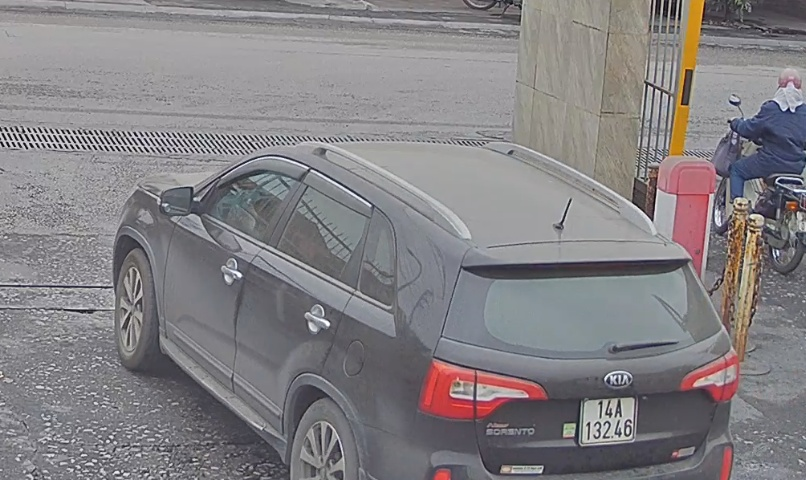vehicle plate: (575, 390, 644, 447)
